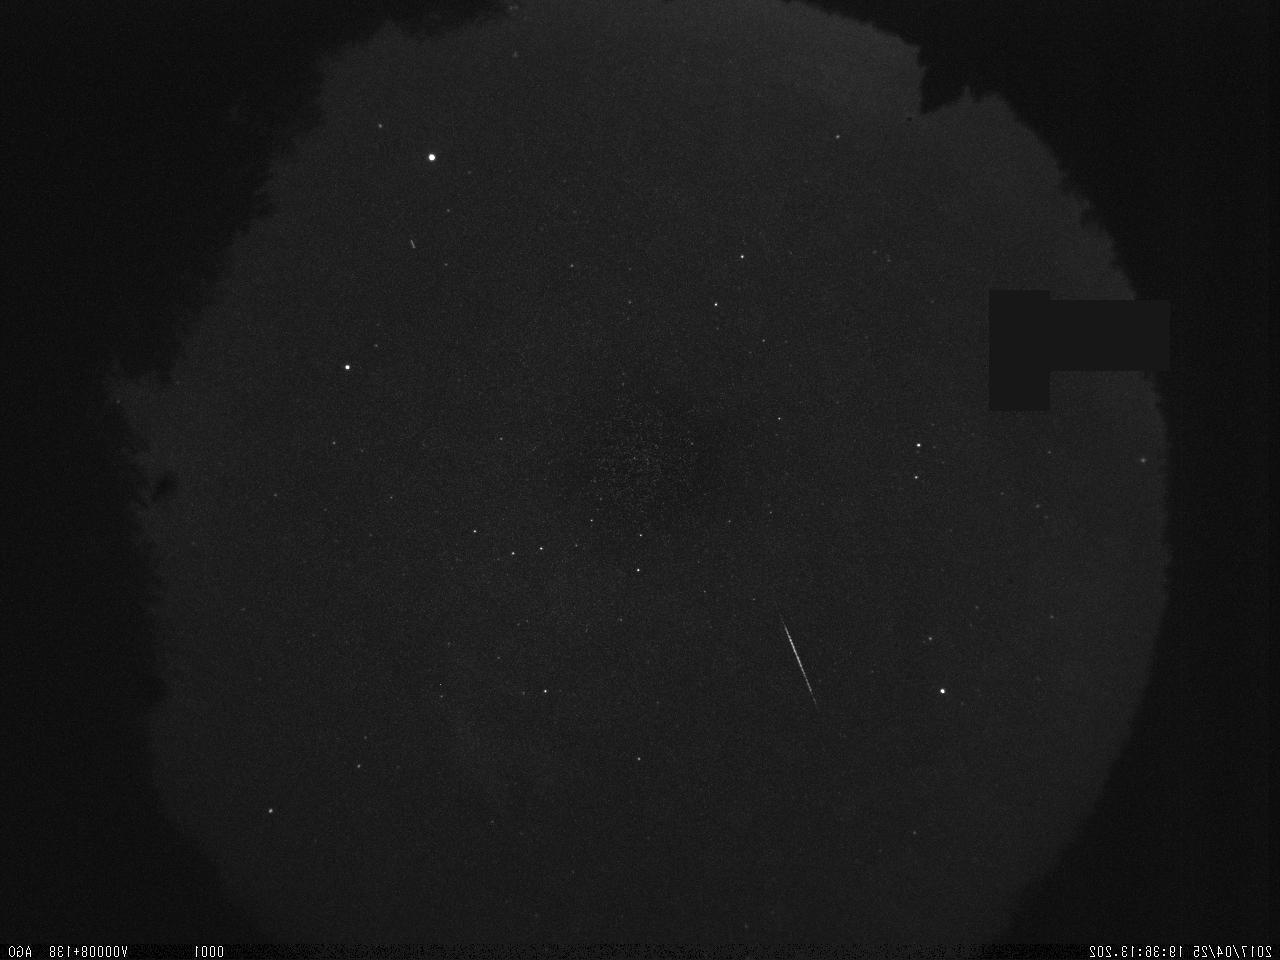meteor: (755, 604, 845, 716)
